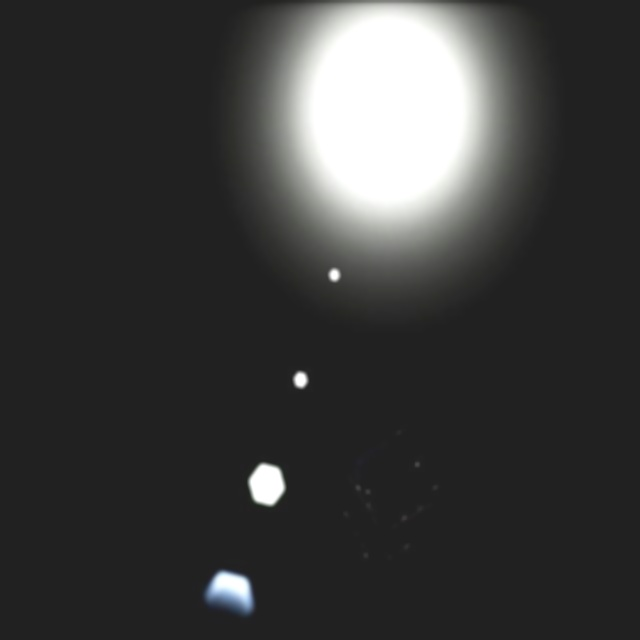medium_debris: (330, 431, 449, 591)
